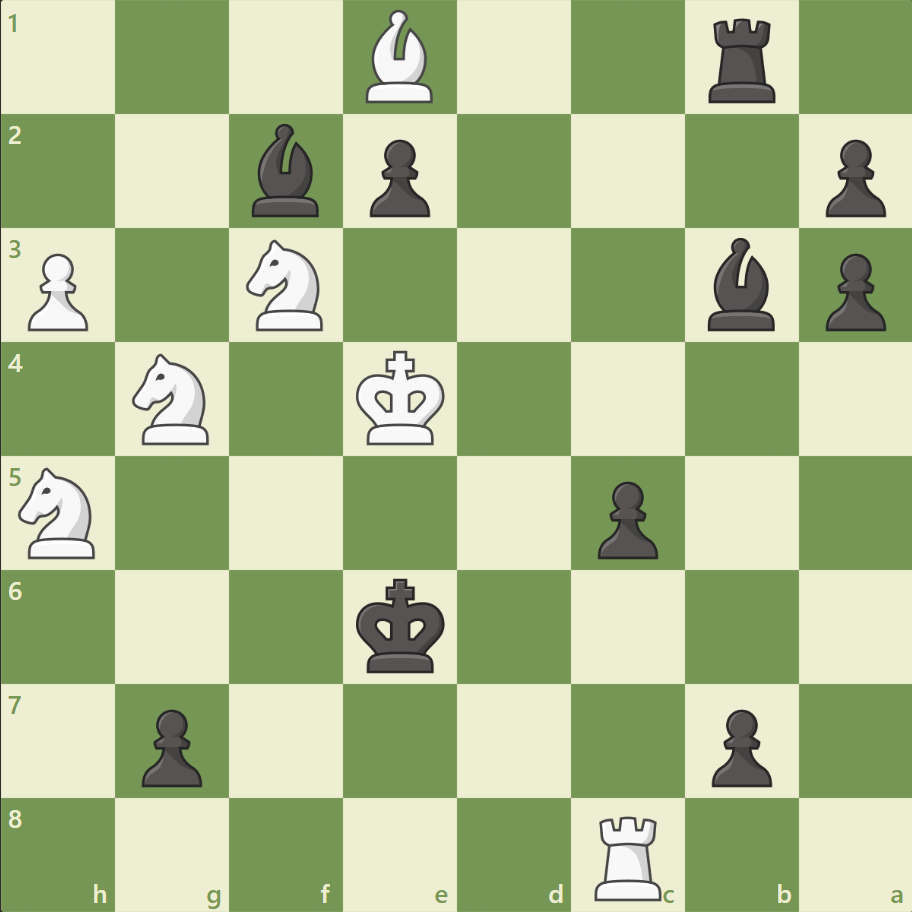B: (358, 6, 442, 109)
K: (351, 344, 451, 452)
N: (124, 348, 222, 450), (11, 461, 108, 564), (238, 234, 335, 337)
P: (20, 246, 95, 337)
R: (587, 806, 670, 904)
b: (698, 233, 782, 336), (244, 120, 328, 222)
k: (351, 571, 451, 679)
p: (701, 700, 776, 791), (133, 700, 208, 791), (588, 473, 662, 564), (815, 246, 889, 337), (815, 132, 889, 223), (361, 132, 435, 223)
r: (700, 12, 783, 109)
